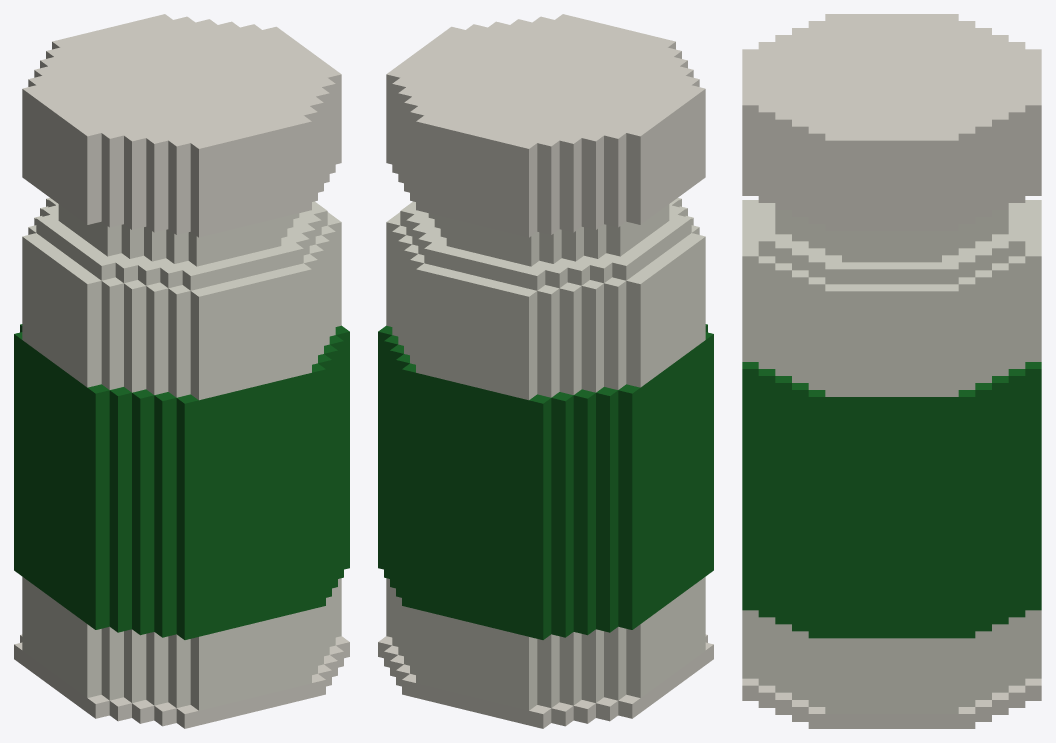
The model's file is fluoxetine.glb.
3 renders of one model, left to right at view 1: azimuth 30°, elevation 25°; view 2: azimuth 150°, elevation 25°; view 3: azimuth 270°, elevation 25°, orthographic. The views are drawn at different scales.
Visible parts, largest first — view 1: fluoxetine:vessel; view 2: fluoxetine:vessel; view 3: fluoxetine:vessel.
Part boxes in pixels (left/top/right/bottom): fluoxetine:vessel: left=14, top=14, right=349, bottom=728; fluoxetine:vessel: left=378, top=14, right=713, bottom=728; fluoxetine:vessel: left=742, top=14, right=1041, bottom=728.
Size of the model in its own units: 0.036 by 0.078 by 0.036.
